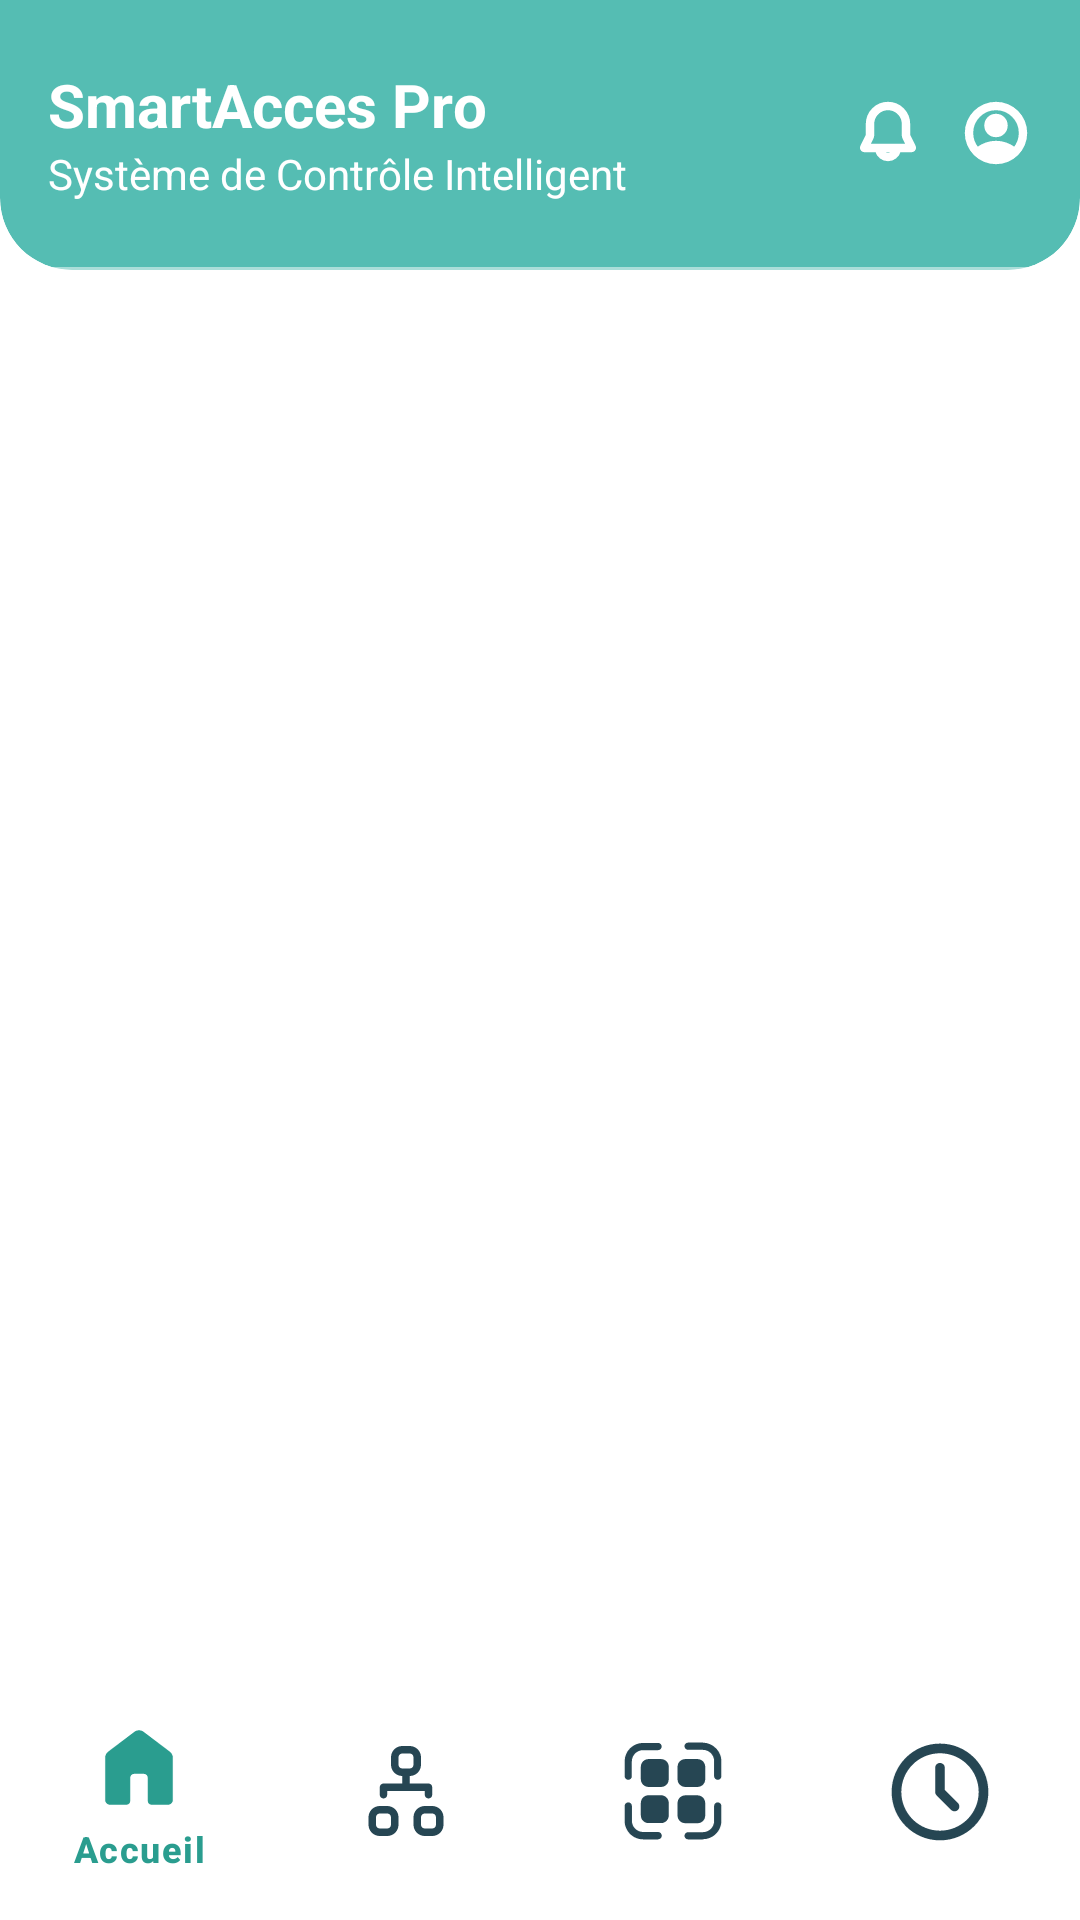

Icons on this 1080 × 1920 Android screen, each with its box as (x1, y1, x2, y2):
notification: (860, 101, 916, 161)
profile: (964, 101, 1028, 165)
